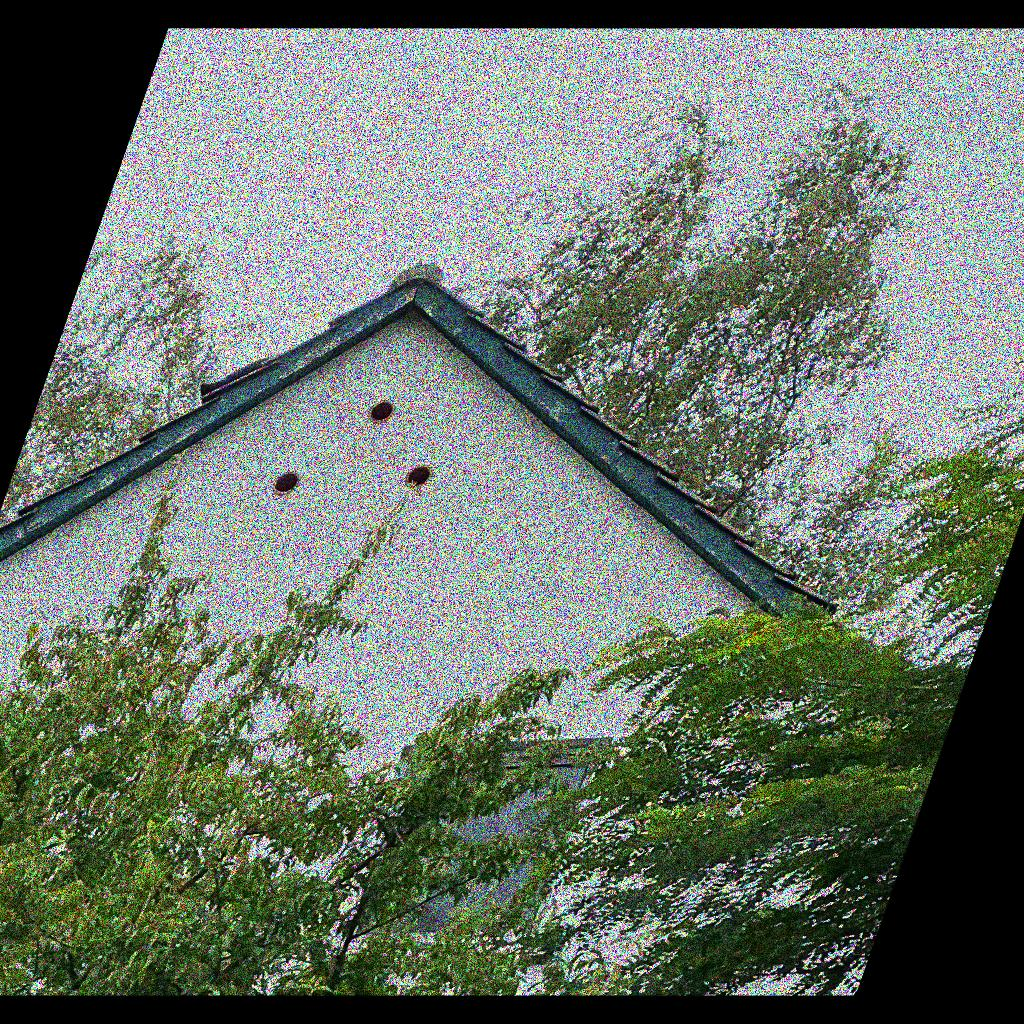tree: (1, 462, 626, 995), (505, 372, 1023, 995), (448, 90, 913, 619), (1, 233, 223, 526)
